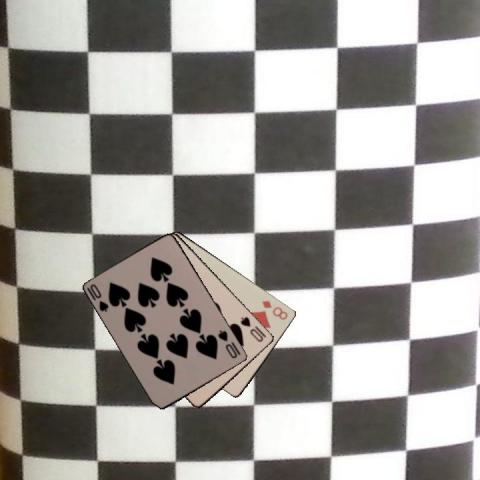10s: (84, 282, 111, 314), (238, 314, 265, 344), (215, 327, 239, 360)
8d: (260, 298, 290, 322)
